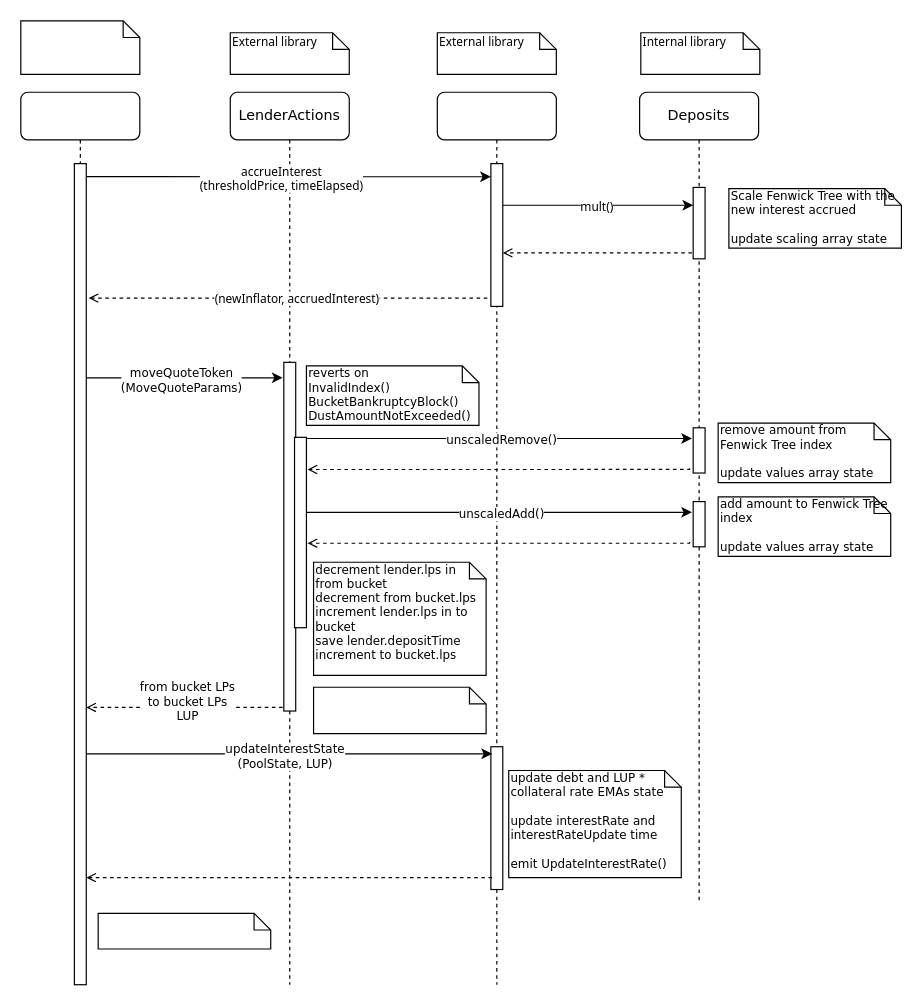
Some shapes in this 922 by 1006 pixel diagram are drawn without their labels. Each missing label, with the box of its shape:
emit MoveQuoteToken(): (312, 686, 486, 734)
Pool: (20, 91, 140, 985)
PoolCommons: (436, 91, 556, 985)
Similar for both ERC20 and ERC721 pools: (20, 20, 140, 74)
update inflator update inflatorUpdate time: (97, 912, 271, 949)
